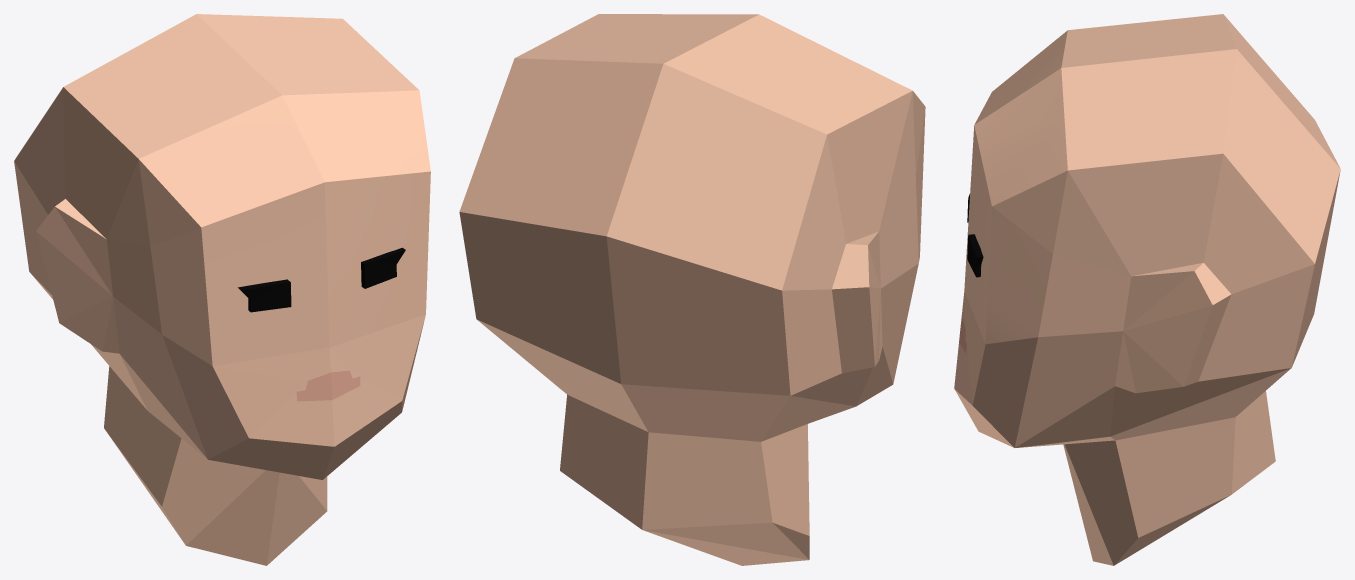
File: Chr_Head_Female_20_Static.fbx
The picture shows the model from 3 angles, left to right: view 1: azimuth 30°, elevation 25°; view 2: azimuth 150°, elevation 25°; view 3: azimuth 270°, elevation 25°; orthographic projection. The views are drawn at different scales.
Parts seen in each view (by area): view 1: Chr_Head_Female_20_Static; view 2: Chr_Head_Female_20_Static; view 3: Chr_Head_Female_20_Static.
Part boxes in pixels (box(x1,y1,x2,y2)): Chr_Head_Female_20_Static: box(14, 14, 430, 565); Chr_Head_Female_20_Static: box(459, 14, 925, 565); Chr_Head_Female_20_Static: box(954, 14, 1340, 565).
Bounding box in the file's own units: 0.2661 × 0.3693 × 0.2526.
